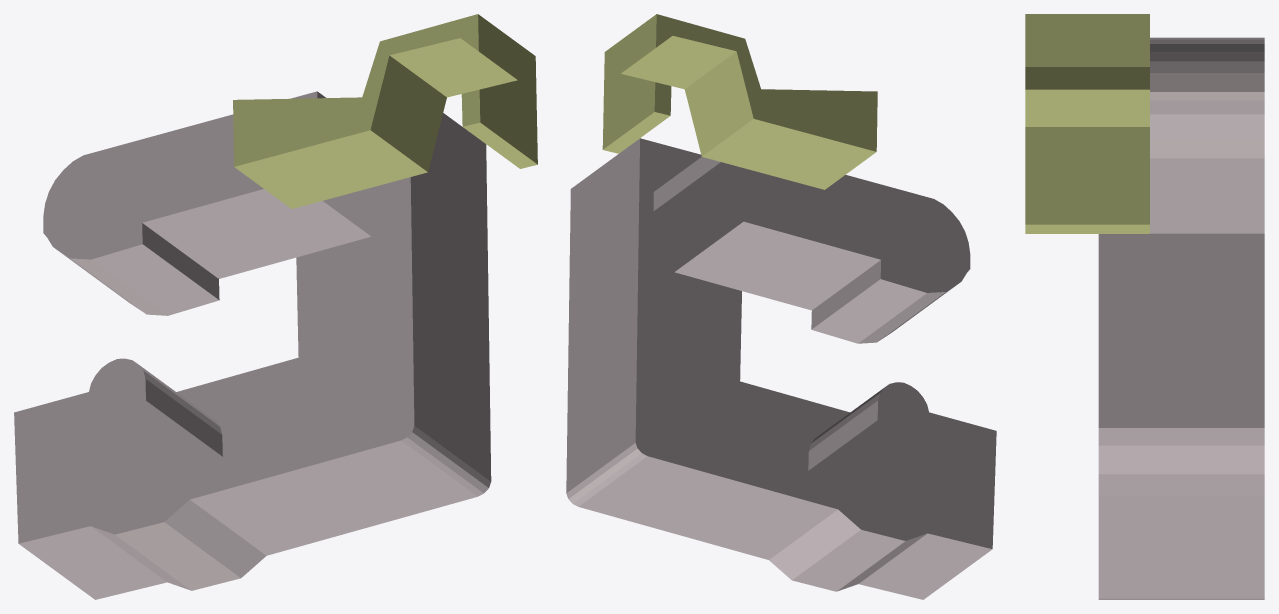
The picture shows the model from 3 angles, left to right: view 1: azimuth 30°, elevation 25°; view 2: azimuth 150°, elevation 25°; view 3: azimuth 270°, elevation 25°; orthographic projection. The views are drawn at different scales.
Visible parts, largest first — view 1: 0_0_1_2_0_0_1_0_2; view 2: 0_0_1_2_0_0_1_0_2; view 3: 0_0_1_2_0_0_1_0_2.
Boxes of the visible parts, x1,y1,x2,y2 form: 0_0_1_2_0_0_1_0_2: (14,14,537,599); 0_0_1_2_0_0_1_0_2: (566,14,996,599); 0_0_1_2_0_0_1_0_2: (1025,14,1264,599).
Size of the model in its own units: 37.25 by 41.7 by 17.3.
